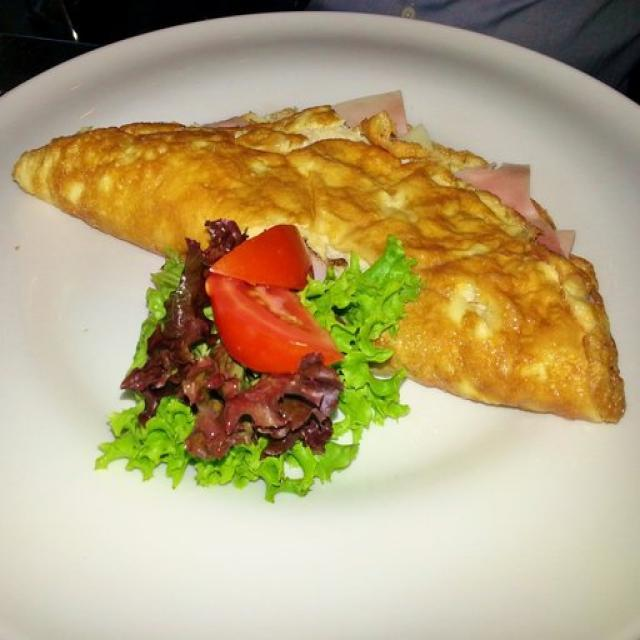telur_ayam_dadar: (11, 104, 626, 428)
